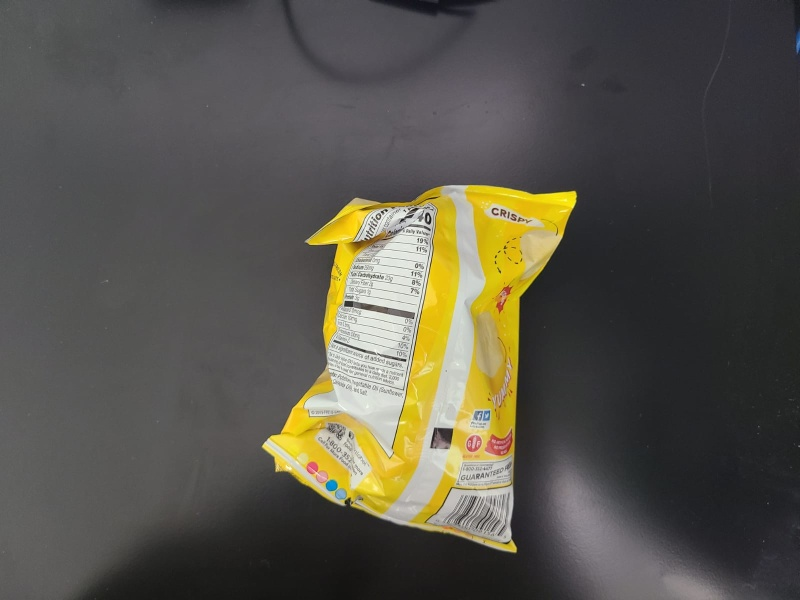lays: (262, 183, 579, 555)
